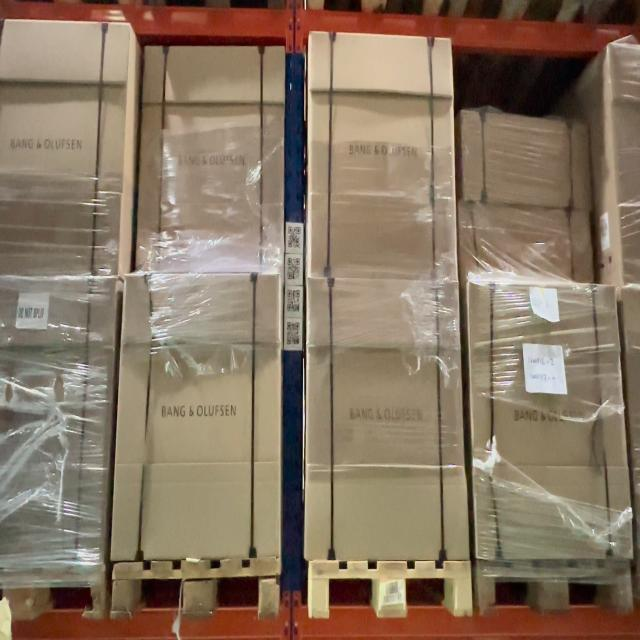box: (107, 273, 284, 562), (304, 278, 469, 562), (471, 282, 632, 562), (305, 33, 455, 282), (129, 45, 286, 277), (456, 105, 590, 212), (456, 201, 595, 285)
